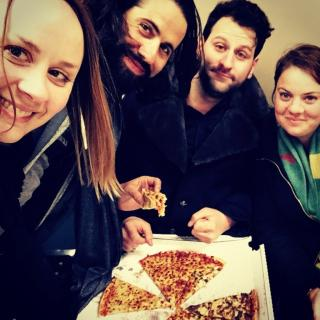Pizza: (109, 239, 249, 317), (96, 276, 174, 317), (166, 287, 257, 320), (141, 186, 166, 216)
